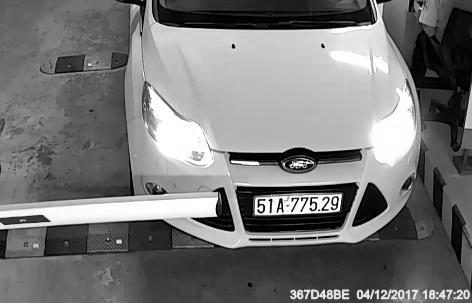License-plate: (250, 188, 347, 222)
